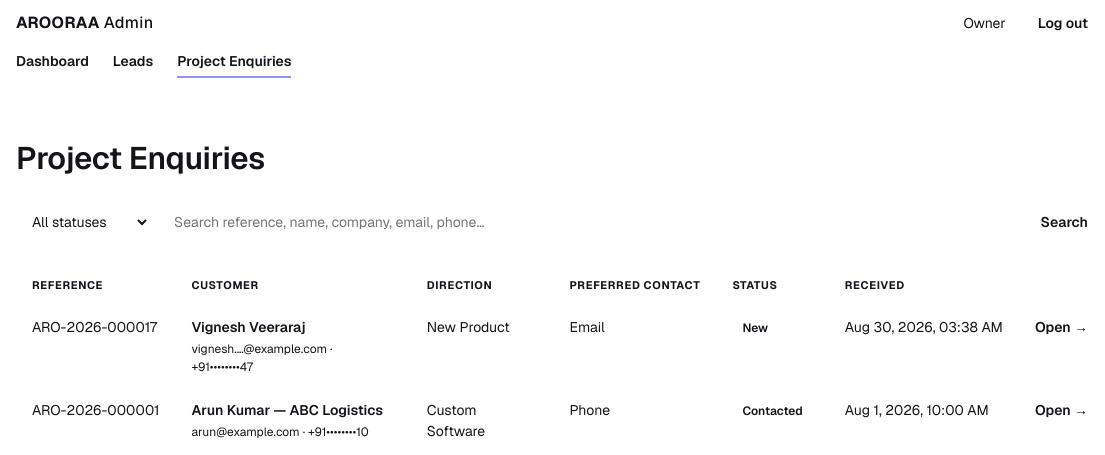
Test case: AdminProjectEnquiriesPage › filters by status
Check: the text "ARO-2026-000017" is shown, box [16, 305, 176, 388]
Select "Contacted" in the dropdown named "Status filter" at (83, 222), box [16, 202, 150, 240]
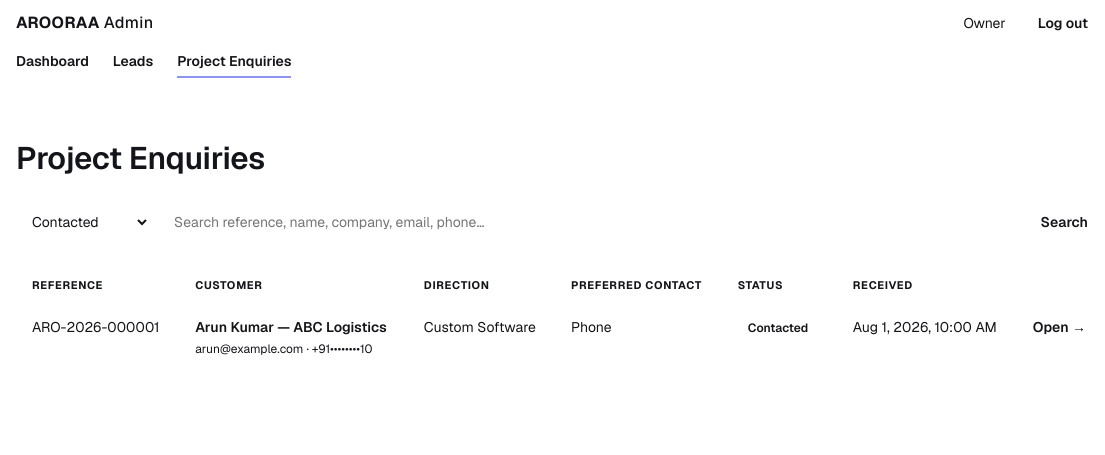
Check: the text "Arun Kumar — ABC Logistics" is shown, box [195, 318, 387, 336]
Check: the text "ARO-2026-000017" is gone
